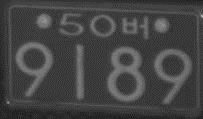0: (89, 13, 117, 38)
1: (63, 43, 96, 99)
5: (58, 12, 84, 36)
8: (105, 45, 146, 102)
9: (14, 40, 54, 98), (153, 46, 192, 104)
버: (121, 15, 149, 41)
